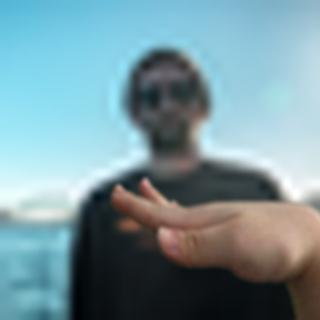Wait: (100, 164, 320, 289)
